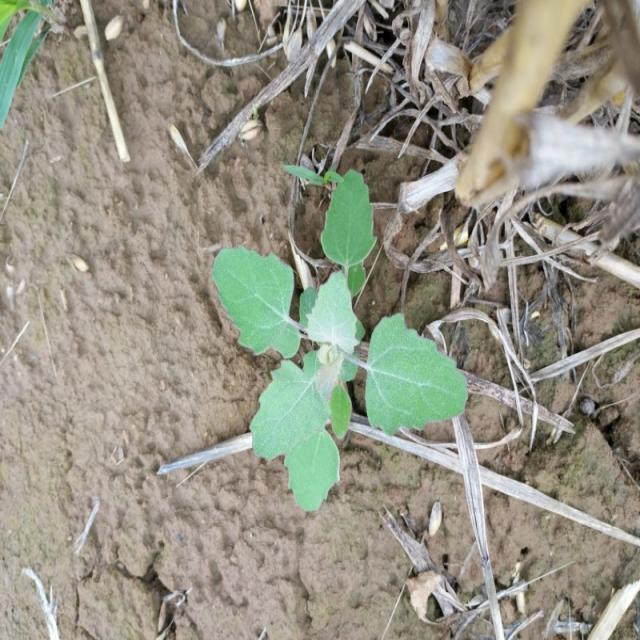goosefoots: (206, 168, 472, 482)
